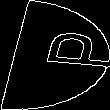P_W: (7, 33, 103, 77)
